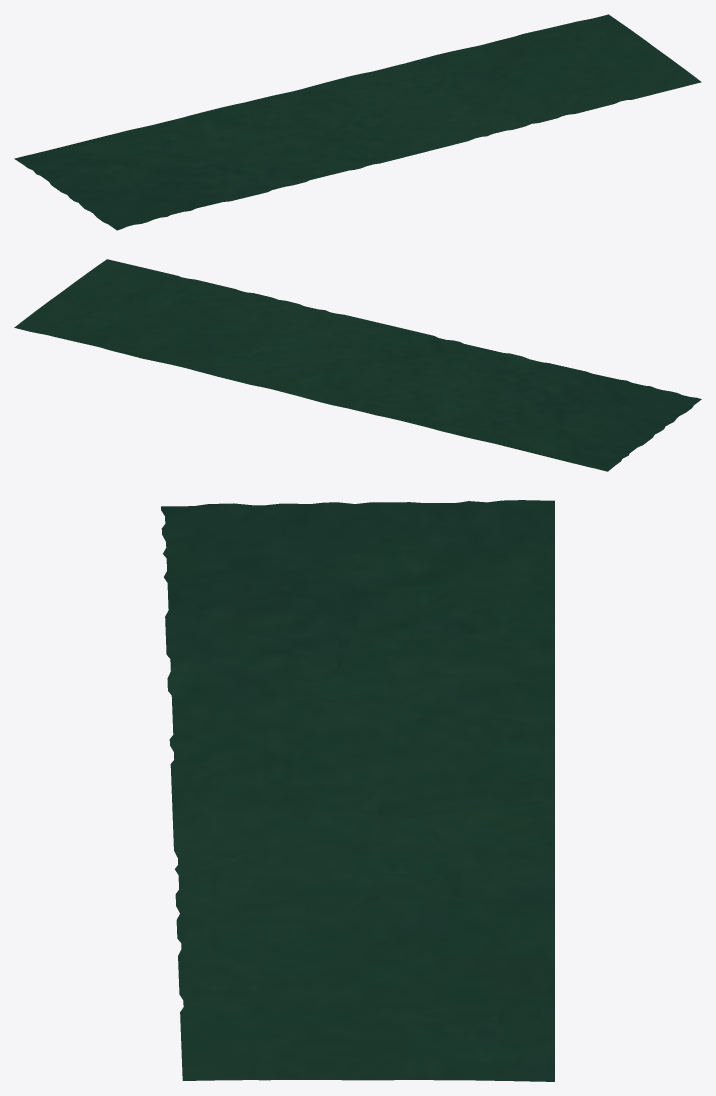
The picture shows the model from 3 angles, top to bottom: view 1: azimuth 30°, elevation 25°; view 2: azimuth 150°, elevation 25°; view 3: azimuth 270°, elevation 25°; orthographic projection. The views are drawn at different scales.
Size of the model in its own units: 374 by 1.12 by 108.
Materials: 1 (1 with a texture image).
